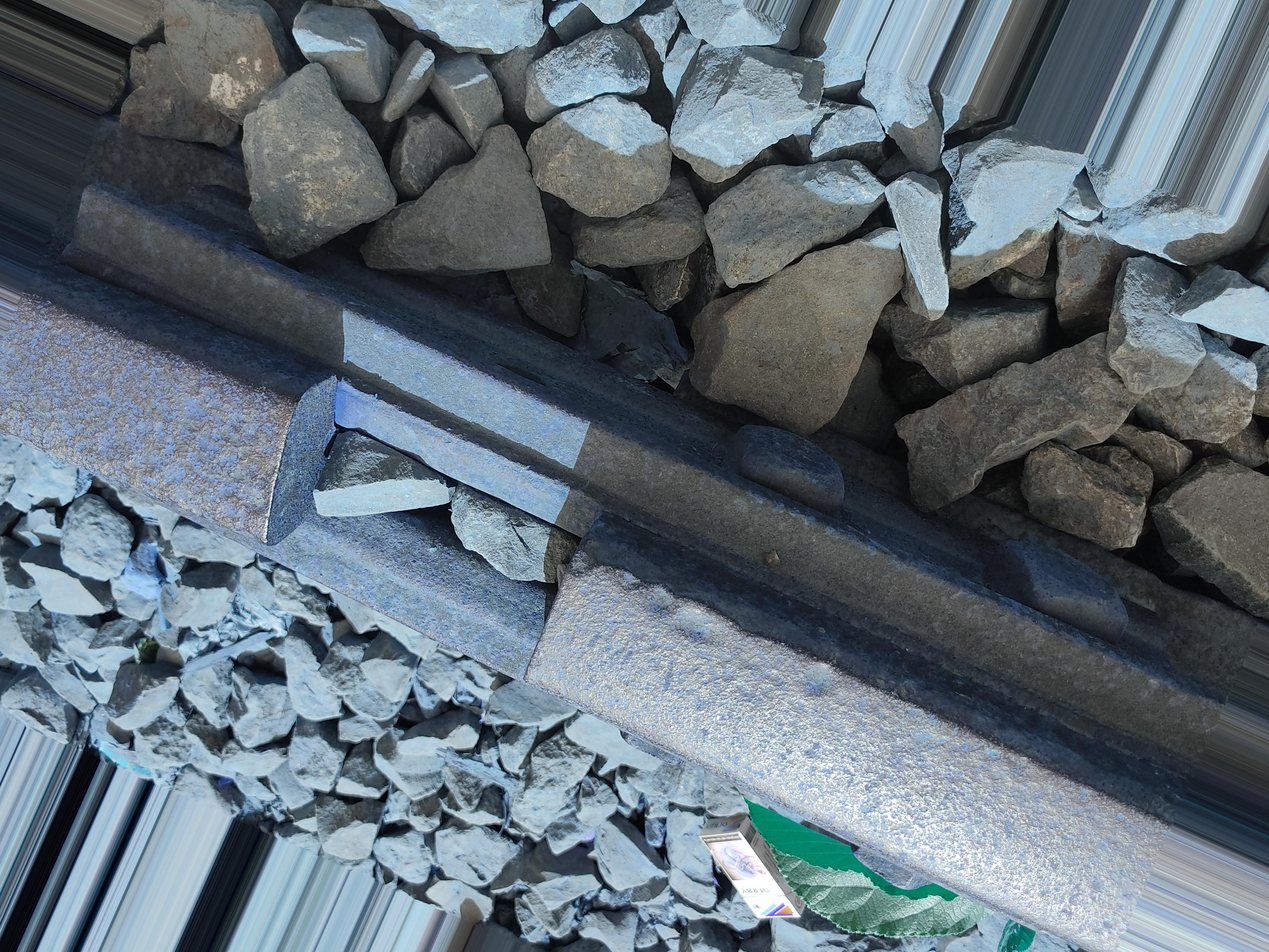tracks_fault: (232, 340, 640, 735)
